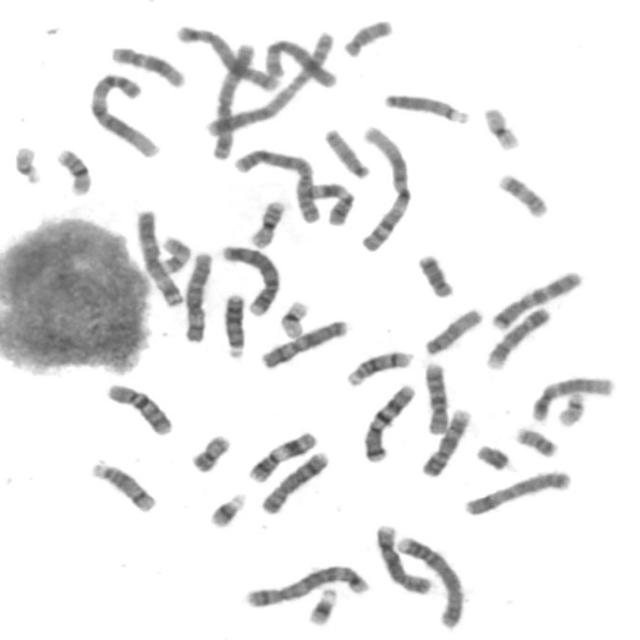A1: (355, 122, 414, 254), (85, 68, 163, 159)
A2: (201, 28, 336, 141), (230, 144, 322, 225)
A3: (206, 39, 258, 162), (132, 205, 187, 308)
B4: (393, 532, 466, 630), (217, 241, 282, 318)
B5: (172, 20, 282, 93), (242, 560, 372, 610)
C10: (102, 379, 175, 437), (420, 358, 452, 436)
C11: (244, 427, 320, 484), (300, 178, 357, 226)
C12: (528, 372, 617, 423), (106, 41, 188, 89)
C6: (261, 34, 339, 90), (179, 247, 215, 344)
C7: (486, 266, 586, 332), (359, 380, 419, 464)
C8: (256, 446, 332, 516), (372, 520, 436, 596)
C9: (483, 303, 553, 371), (418, 405, 474, 478)
D13: (380, 88, 471, 126), (219, 289, 248, 360)
D14: (87, 457, 158, 514), (342, 346, 416, 388)
D15: (420, 303, 486, 357), (320, 124, 372, 180)
E16: (245, 196, 288, 250), (52, 145, 94, 197)
E17: (494, 169, 551, 220), (156, 232, 192, 276)
E18: (339, 14, 396, 58), (413, 250, 456, 300)
F19: (480, 103, 523, 152), (275, 296, 311, 340)
F20: (188, 430, 232, 474), (511, 423, 560, 459)
G21: (205, 488, 249, 529), (304, 582, 341, 628)
G22: (10, 141, 44, 185), (554, 388, 588, 428)
X: (460, 466, 574, 518), (256, 316, 351, 370)
Y: (472, 440, 513, 472)
